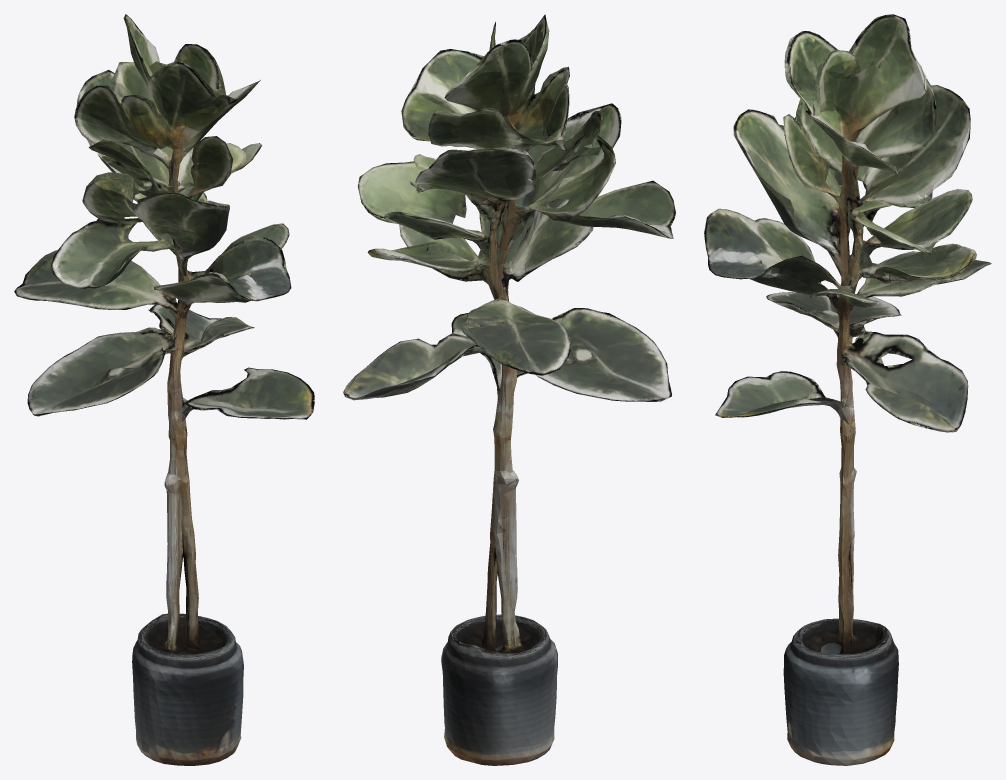
3 renders of one model, left to right at view 1: azimuth 30°, elevation 25°; view 2: azimuth 150°, elevation 25°; view 3: azimuth 270°, elevation 25°, orthographic. The views are drawn at different scales.
Visible parts, largest first — view 1: world; view 2: world; view 3: world.
Part boxes in pixels (bbox=[...]): world: bbox=[14, 14, 314, 765]; world: bbox=[343, 14, 675, 765]; world: bbox=[704, 14, 991, 765].
Size of the model in its own units: 0.3848 by 0.9928 by 0.3632.
Materials: 1 (1 with a texture image).
